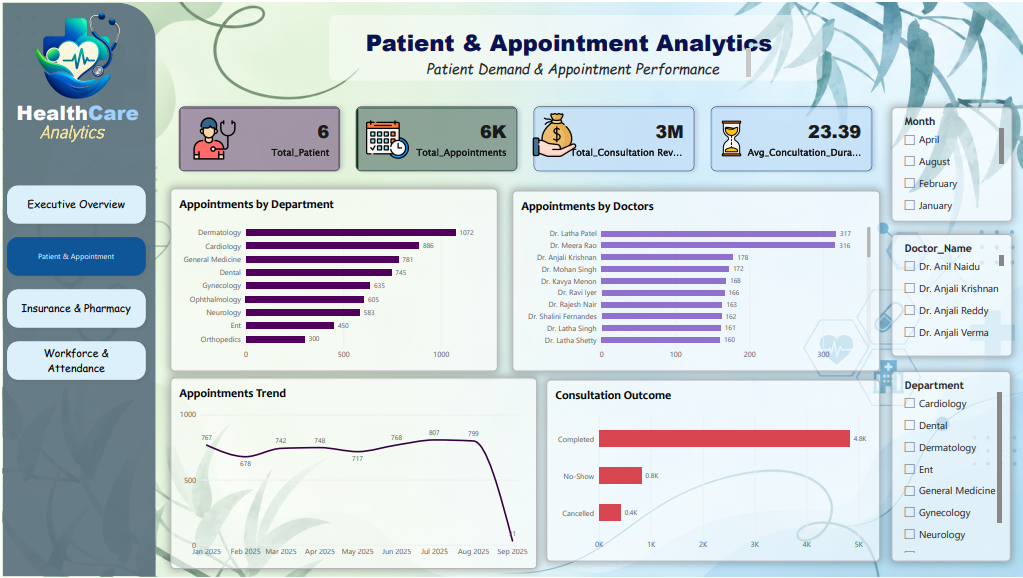

What the dashboard file says about the page in this screenshot:
{"tool":"powerbi","page":{"name":"Patient & Appointment","canvas":[1920,1080],"ordinal":1},"visuals":[{"type":"shape","box":[614,22.7,929.7,123.8],"z":0},{"type":"cardVisual","fields":{"Data":["Patients_Master.Total_Patient","Raw_Appointments.Total_Appointments","Raw_Appointments.Total_Consultation Revenue","Raw_Appointments.Avg_Concultation_Duration"]},"box":[315.7,179.7,1336.1,153.5],"z":1000},{"type":"shape","box":[0,0,288,1080],"z":2000},{"type":"lineChart","title":"Appointments Trend","fields":{"Category":["DateTable.Date.Variation.Date Hierarchy.Year","DateTable.Date.Variation.Date Hierarchy.Month"],"Y":["Raw_Appointments.Total_Appointments"]},"box":[316,706,690,360],"z":3000},{"type":"barChart","title":"Appointments by Department","fields":{"Category":["Raw_Appointments.Department"],"Y":["Raw_Appointments.Total_Appointments"]},"box":[316,350,616,344],"z":4000},{"type":"textbox","box":[315,650,150,430],"z":5000},{"type":"textbox","box":[684,44,900,84],"z":6000},{"type":"slicer","fields":{"Values":["DateTable.Month"]},"box":[1674.4,197.1,226.7,214.5],"z":7000},{"type":"textbox","box":[798,86,610,55],"z":8000},{"type":"barChart","title":"Appointments by Doctors","fields":{"Category":["Doctor_Master.Doctor_Name"],"Y":["Raw_Appointments.Total_Appointments"]},"box":[960,354,692,340],"z":9000},{"type":"slicer","fields":{"Values":["Doctor_Master.Doctor_Name"]},"box":[1674.4,436,226.7,230.2],"z":10000},{"type":"slicer","fields":{"Values":["Raw_Appointments.Department"]},"box":[1674.4,694.2,223.3,357.6],"z":11000},{"type":"image","box":[17.8,8.9,237.8,177.8],"z":12000},{"type":"pageNavigator","box":[0,315.6,277,410],"z":13000},{"type":"textbox","box":[70,223.8,148.9,62.2],"z":14000},{"type":"barChart","title":"Consultation Outcome","fields":{"Category":["Raw_Appointments.Status"],"Y":["Raw_Appointments.Total_Appointments"]},"box":[1024,710,628,342],"z":15000},{"type":"textbox","box":[26.2,178.8,337.3,90.2],"z":16000},{"type":"image","box":[333.1,214.5,132.6,83.7],"z":17000},{"type":"image","box":[661,218,127.3,80.2],"z":18000},{"type":"image","box":[1327.3,200.6,90.7,108.1],"z":19000},{"type":"image","box":[997.7,191.9,82,113.4],"z":20000}]}

Visuals, with their boxes in screenshot pixels (x1, y1, x2, y2), scaled from the page's 1920x1080 canvas onto the 1023x578 screenshot:
shape: 327 12 823 78
cardVisual - Patients_Master.Total_Patient x Raw_Appointments.Total_Appointments: 168 96 880 178
shape: 0 0 153 577
"Appointments Trend" lineChart: 168 378 536 571
"Appointments by Department" barChart: 168 187 497 371
textbox: 168 348 248 577
textbox: 364 24 844 69
slicer - DateTable.Month: 892 105 1013 220
textbox: 425 46 750 75
"Appointments by Doctors" barChart: 512 189 880 371
slicer - Doctor_Master.Doctor_Name: 892 233 1013 357
slicer - Raw_Appointments.Department: 892 372 1011 563
image: 9 5 136 100
pageNavigator: 0 169 148 388
textbox: 37 120 117 153
"Consultation Outcome" barChart: 546 380 880 563
textbox: 14 96 194 144
image: 177 115 248 160
image: 352 117 420 160
image: 707 107 756 165
image: 532 103 575 163
